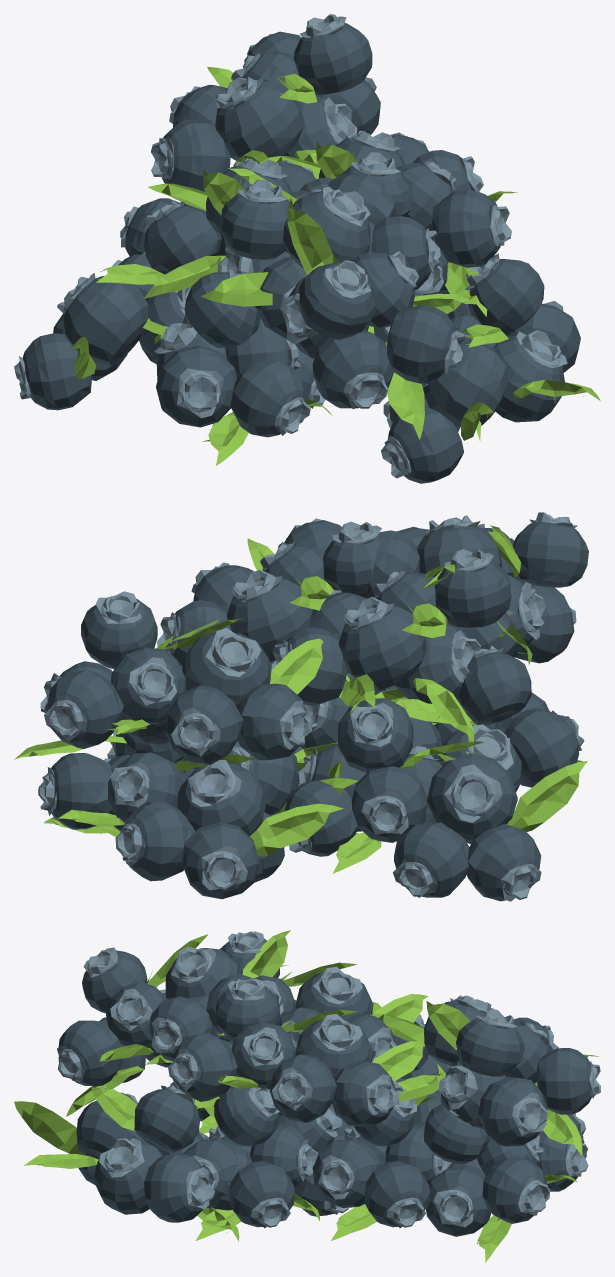
The model's file is blueberries_fixed.glb.
The picture shows the model from 3 angles, top to bottom: view 1: azimuth 30°, elevation 25°; view 2: azimuth 150°, elevation 25°; view 3: azimuth 270°, elevation 25°; orthographic projection. The views are drawn at different scales.
Visible parts, largest first — view 1: Node.009; view 2: Node.009; view 3: Node.009.
Boxes of the visible parts, <box> form: Node.009: <box>14,14,600,483</box>; Node.009: <box>14,512,588,901</box>; Node.009: <box>14,930,600,1262</box>.
Size of the model in its own units: 1.38 by 0.7859 by 1.85.
